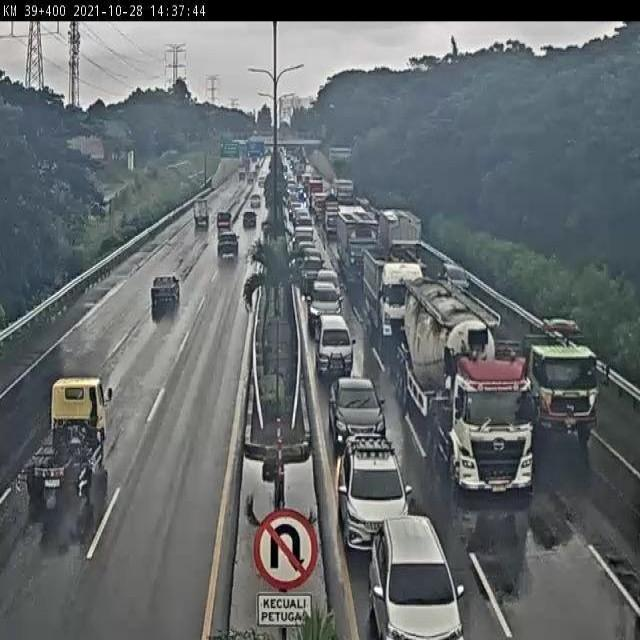big truck: (405, 279, 536, 496), (500, 317, 598, 443), (363, 243, 427, 337)
car: (368, 523, 467, 637), (337, 435, 411, 549), (329, 376, 387, 444), (312, 313, 354, 368), (307, 281, 343, 323), (149, 272, 180, 309), (296, 242, 330, 274), (213, 229, 242, 264), (293, 218, 320, 246)
small truck: (17, 377, 113, 507)
